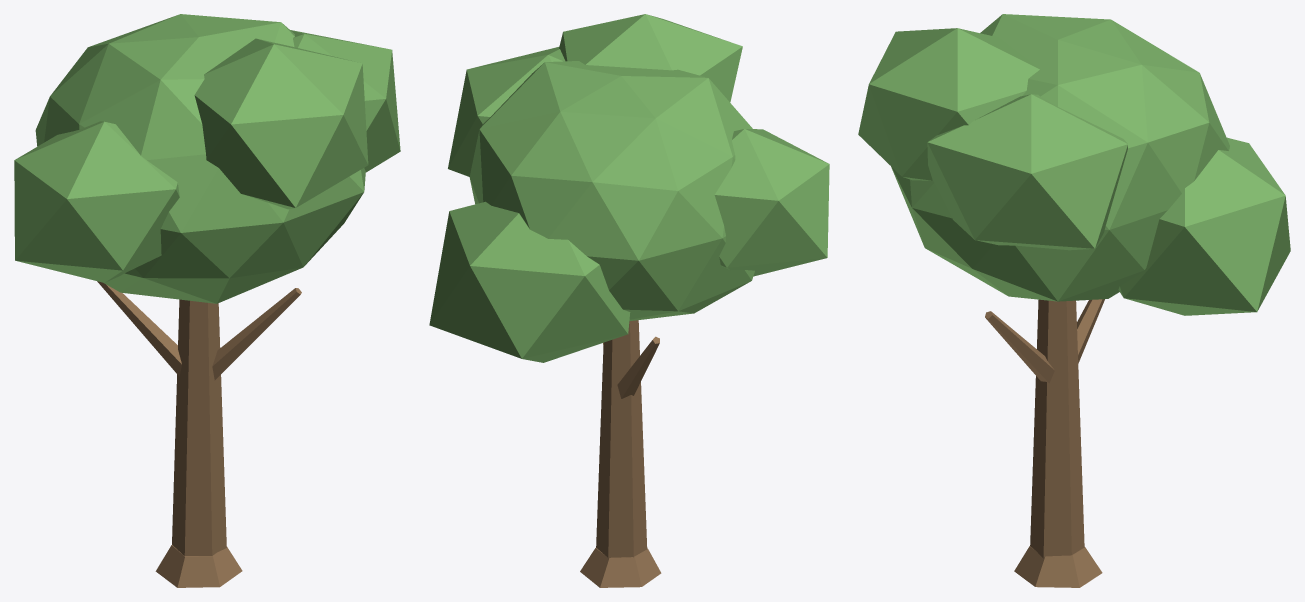
Rendered from tree_oak_a.glb.
3 views of the same model, side by side, from view 1: azimuth 30°, elevation 25°; view 2: azimuth 150°, elevation 25°; view 3: azimuth 270°, elevation 25° (orthographic). The views are drawn at different scales.
Visible parts, largest first — view 1: tree_oak_a; view 2: tree_oak_a; view 3: tree_oak_a.
Boxes of the visible parts, left/top/right/bottom form: tree_oak_a: left=14, top=14, right=400, bottom=587; tree_oak_a: left=429, top=14, right=829, bottom=587; tree_oak_a: left=858, top=14, right=1290, bottom=587.
Size of the model in its own units: 3.83 by 5.34 by 3.76.
